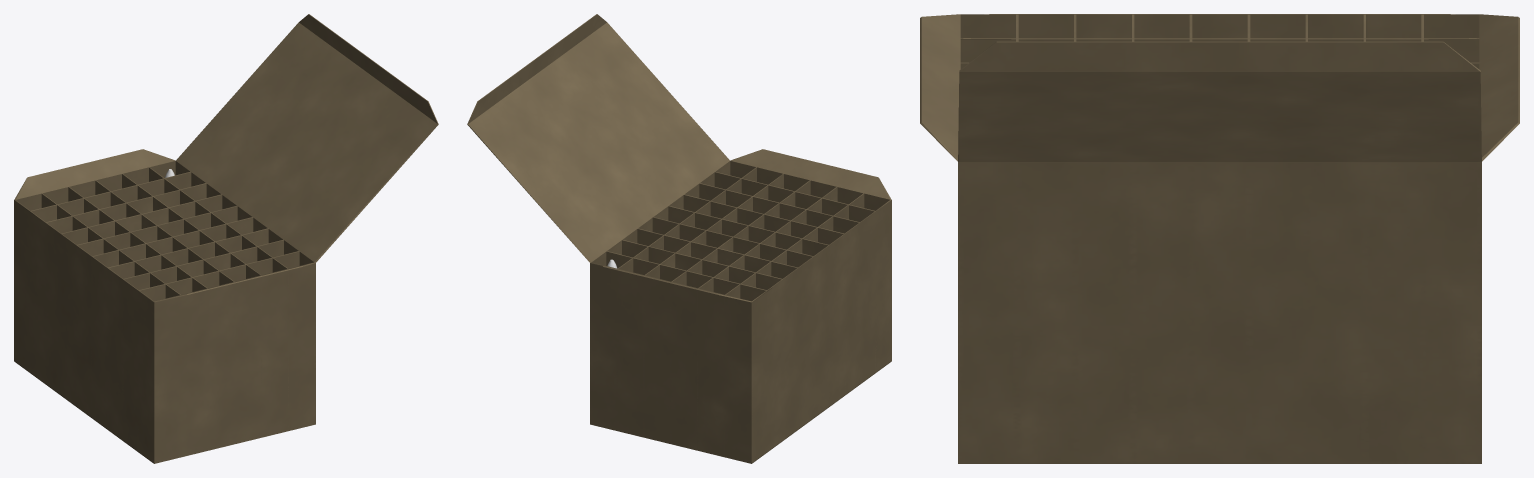
The model's file is ammobox_762nato.fbx.
3 views of the same model, side by side, from view 1: azimuth 30°, elevation 25°; view 2: azimuth 150°, elevation 25°; view 3: azimuth 270°, elevation 25° (orthographic). The views are drawn at different scales.
Visible parts, largest first — view 1: AmmoBox_762nato_prefab; view 2: AmmoBox_762nato_prefab; view 3: AmmoBox_762nato_prefab.
Part boxes in pixels (x1,y1,x2,y2): AmmoBox_762nato_prefab: (14, 14, 438, 463); AmmoBox_762nato_prefab: (467, 14, 891, 463); AmmoBox_762nato_prefab: (920, 14, 1519, 463).
Size of the model in its own units: 13.15 by 12.59 by 12.81.
